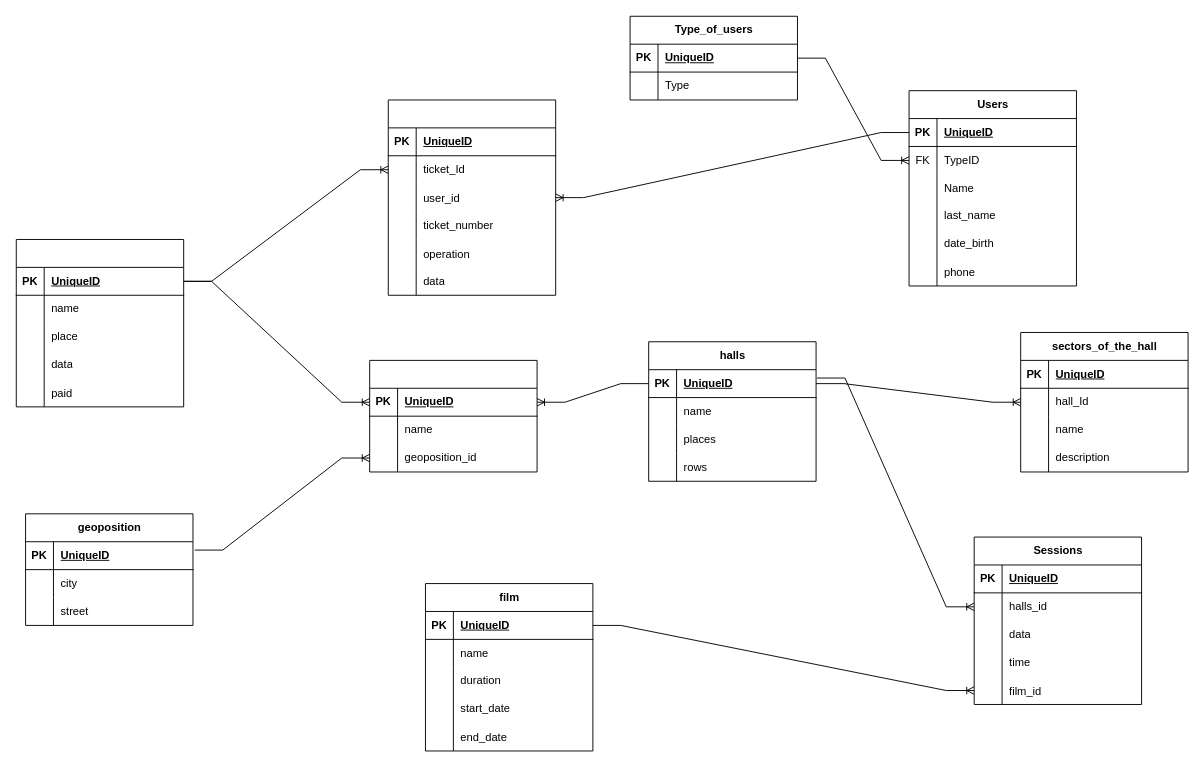
Image size: 1204x767. Some labels were removed from this diagram. Each missing label, with the box of its shape:
Theatre: (369, 359, 537, 472)
ticket_movement: (387, 99, 556, 295)
tickets: (15, 239, 184, 407)
